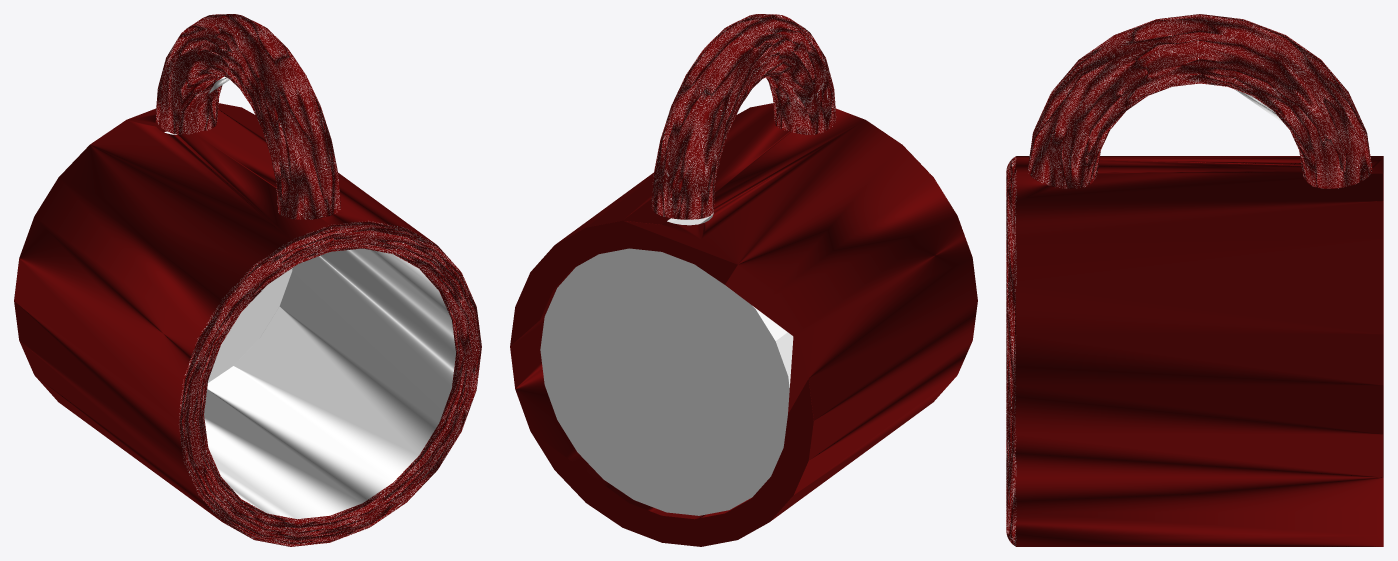
File: model_align.obj
3 renders of one model, left to right at view 1: azimuth 30°, elevation 25°; view 2: azimuth 150°, elevation 25°; view 3: azimuth 270°, elevation 25°, orthographic. The views are drawn at different scales.
Size of the model in its own units: 0.0799 by 0.1151 by 0.0768.
